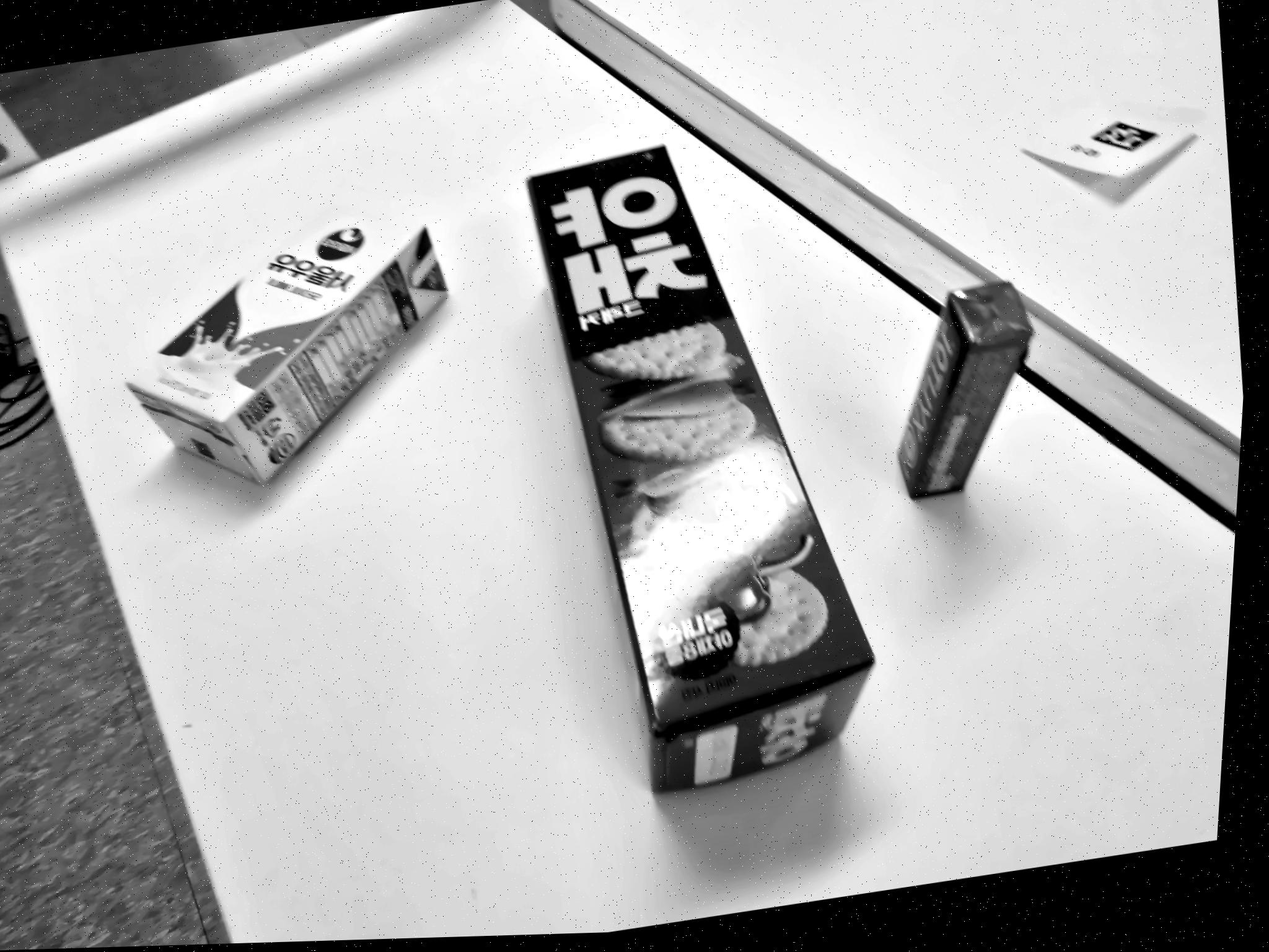cracker_vege: (527, 146, 873, 792)
gum_green: (898, 282, 1033, 498)
milk_green: (125, 209, 446, 483)
